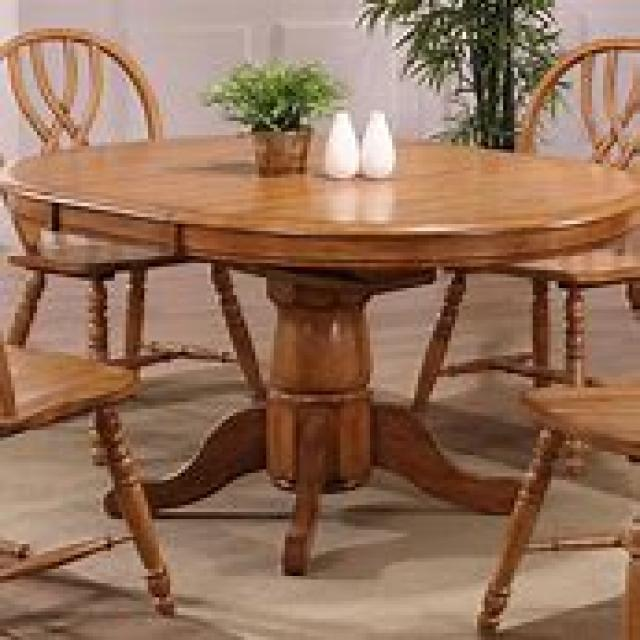chair: (407, 35, 636, 412)
table: (0, 127, 636, 572)
